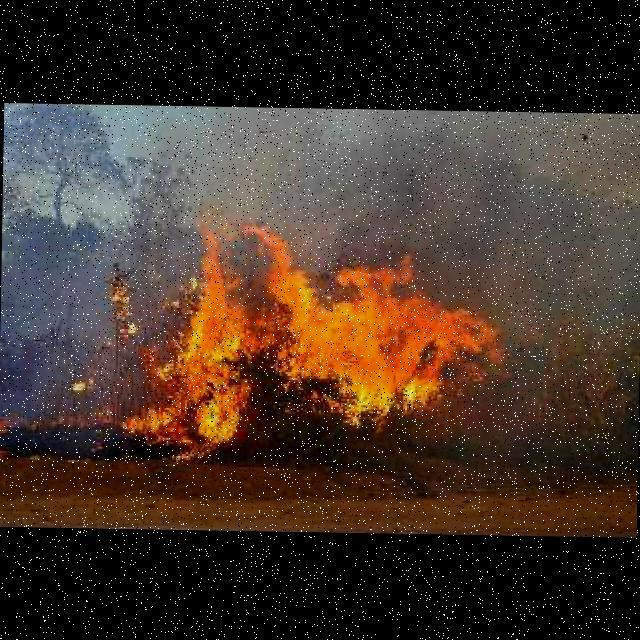Fire: (138, 219, 494, 439)
